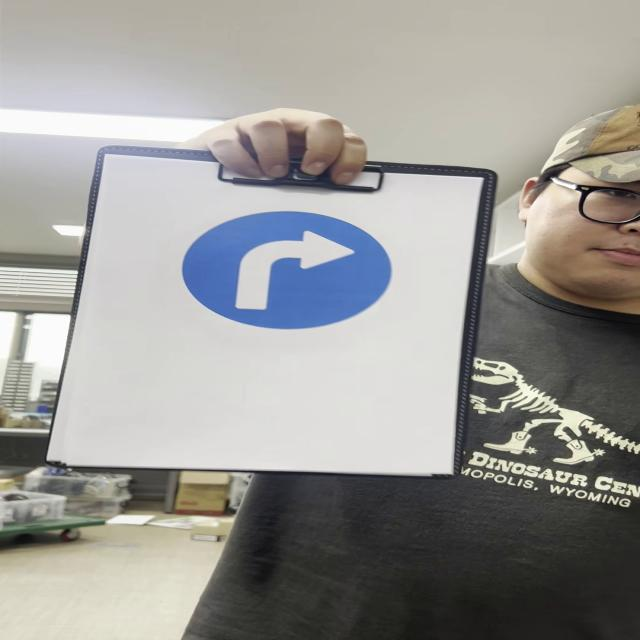right: (186, 211, 384, 328)
